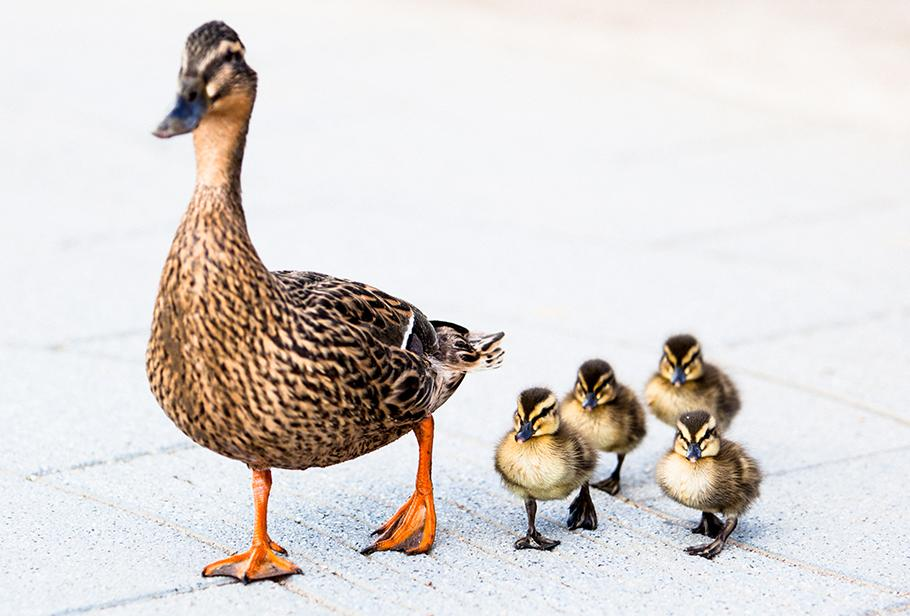duck: (125, 19, 506, 587)
duckling: (661, 410, 772, 566), (495, 391, 603, 549), (546, 357, 650, 498), (643, 336, 753, 457)
